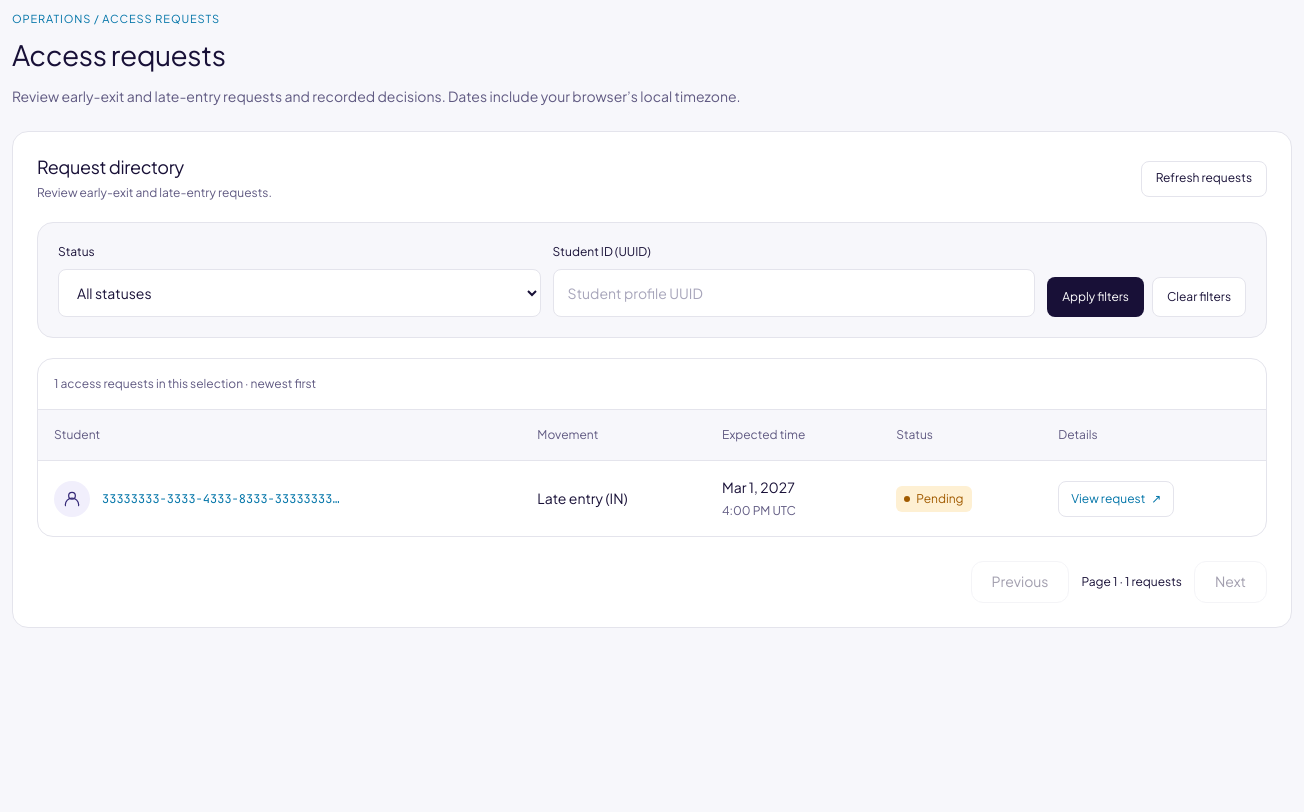
filters the directory, resets pagination and preserves filters on detail/back links
Expected: the table is shown, [38,359,1266,536]
Select "Pending" in the dropdown labelled "Status": {"x": 299, "y": 293} [58,269,541,317]
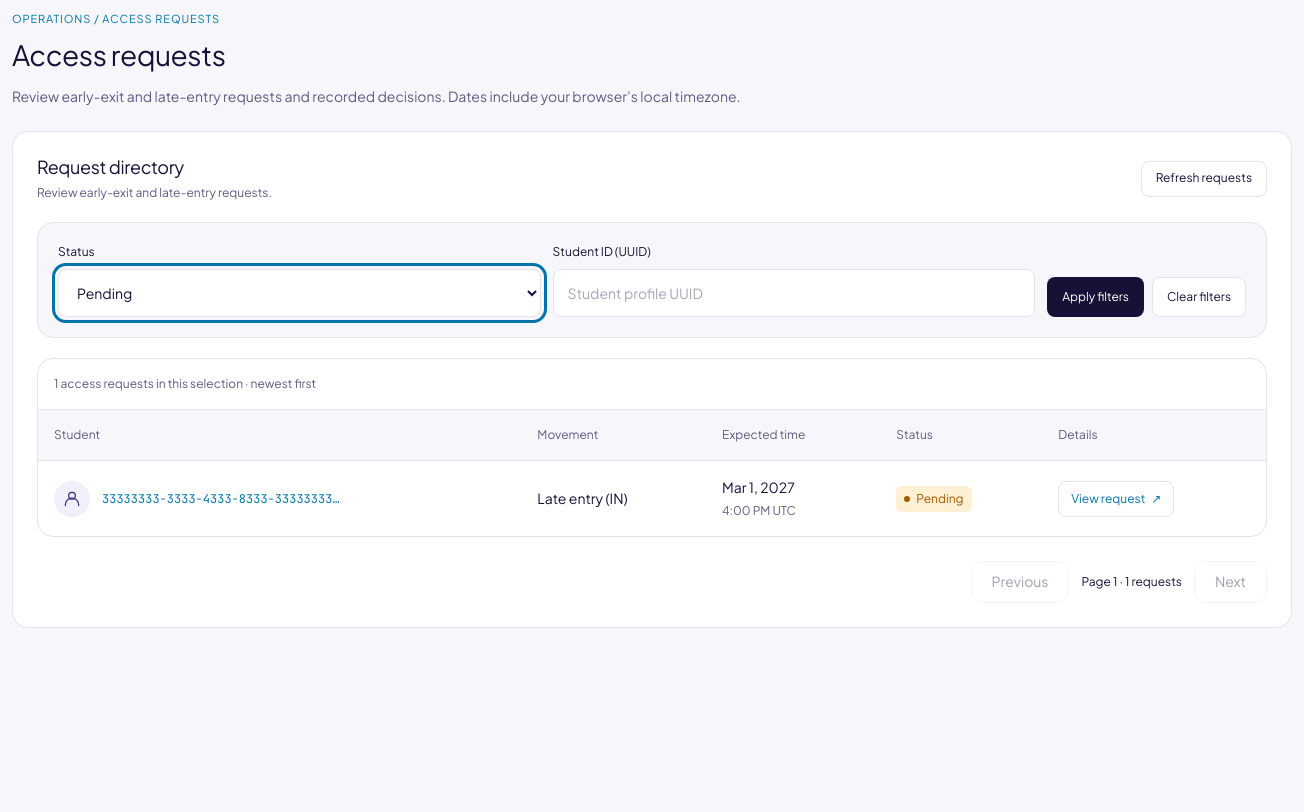
In the field labelled "Student ID (UUID)": {"x": 794, "y": 293} [553,269,1035,317], type "33333333-3333-4333-8333-333333333333"
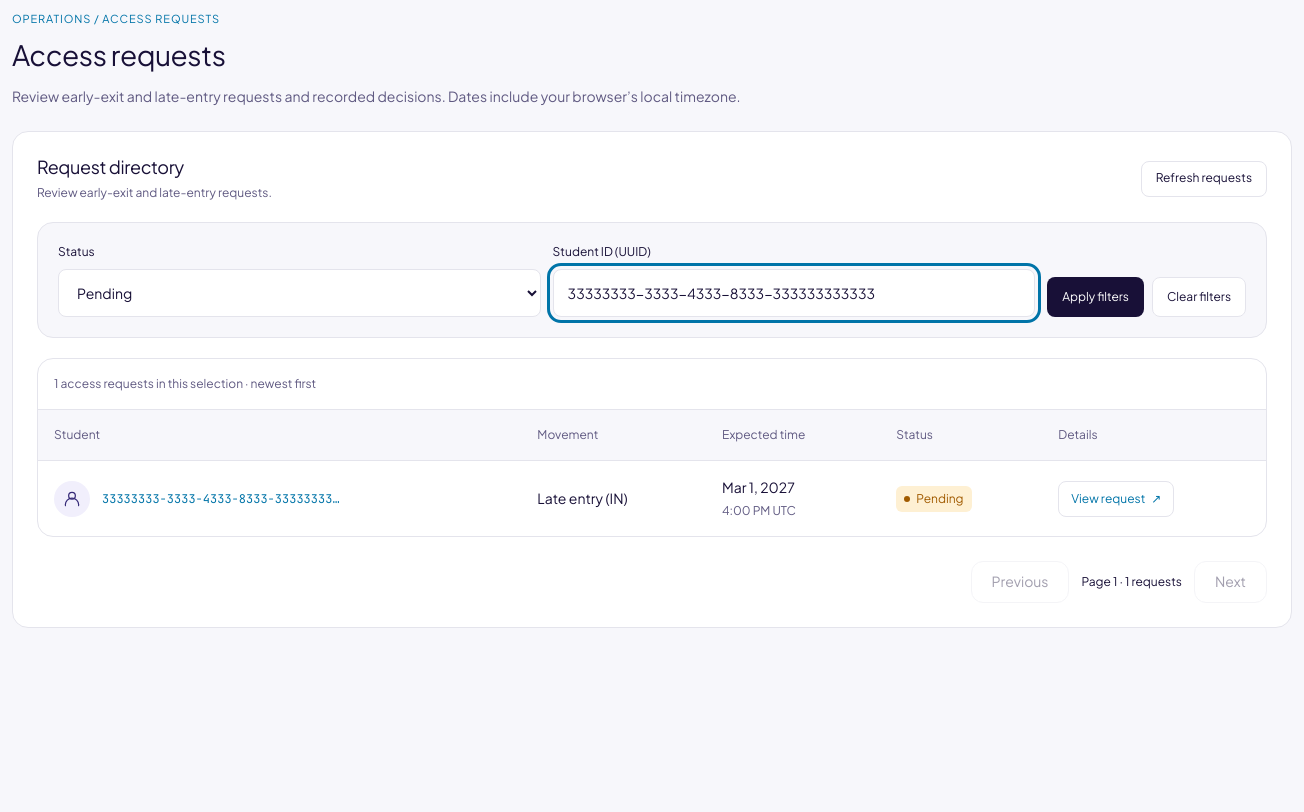
Click the button "Apply filters": {"x": 1096, "y": 297} [1047,277,1144,317]
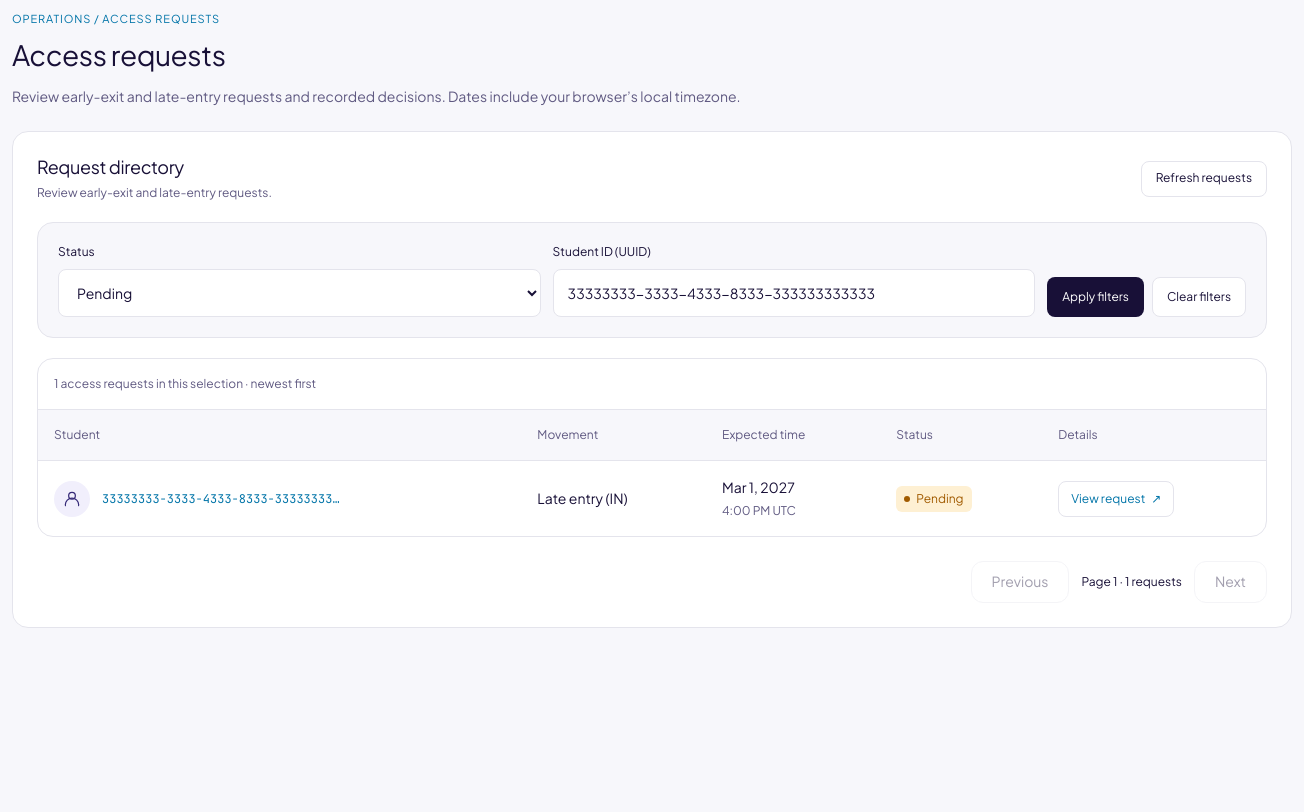
Click the link "View request ↗": {"x": 1116, "y": 499} [1058,481,1174,517]
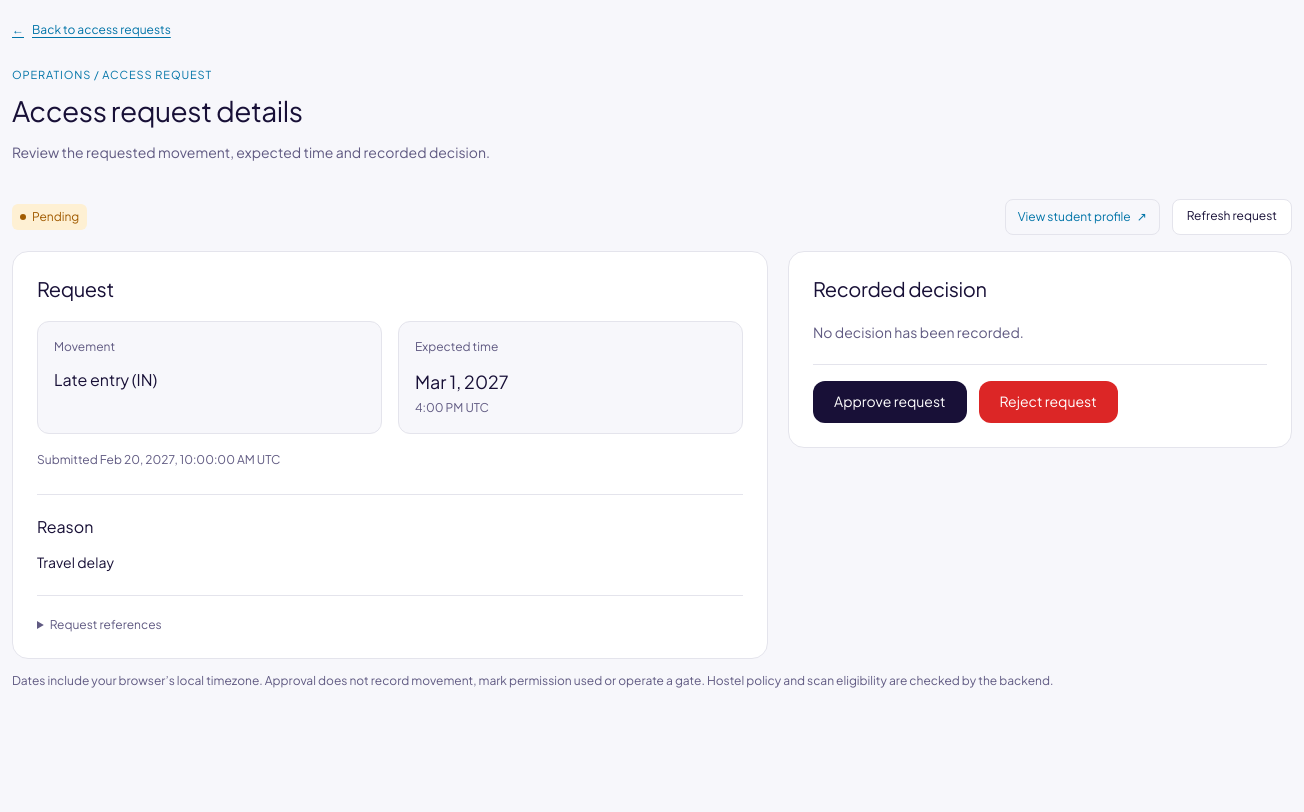
Expected: the text "Travel delay" is shown, [37,553,114,571]
